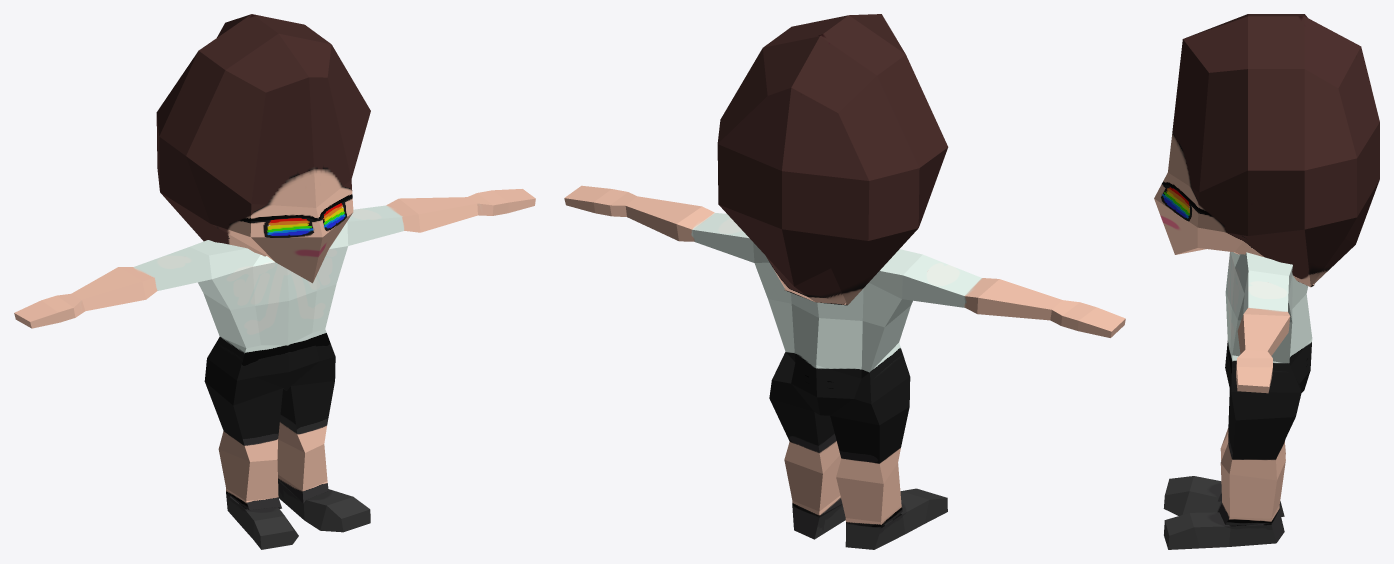
File: timmyModel.fbx
3 views of the same model, side by side, from view 1: azimuth 30°, elevation 25°; view 2: azimuth 150°, elevation 25°; view 3: azimuth 270°, elevation 25° (orthographic). The views are drawn at different scales.
Parts seen in each view (by area): view 1: Player; view 2: Player; view 3: Player.
Boxes of the visible parts, bbox=[...] form: Player: bbox=[14, 14, 535, 549]; Player: bbox=[564, 14, 1125, 549]; Player: bbox=[1154, 14, 1379, 549].
Size of the model in its own units: 1255 by 1127 by 454.
Materials: 1 (1 with a texture image).
